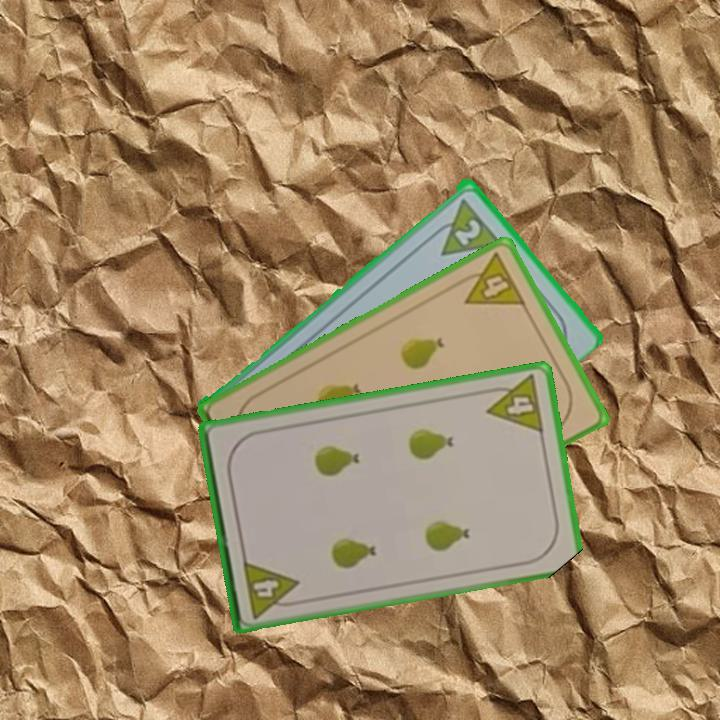2p: (450, 214, 484, 248)
4p: (451, 249, 529, 309), (480, 371, 547, 436), (239, 556, 304, 621)
